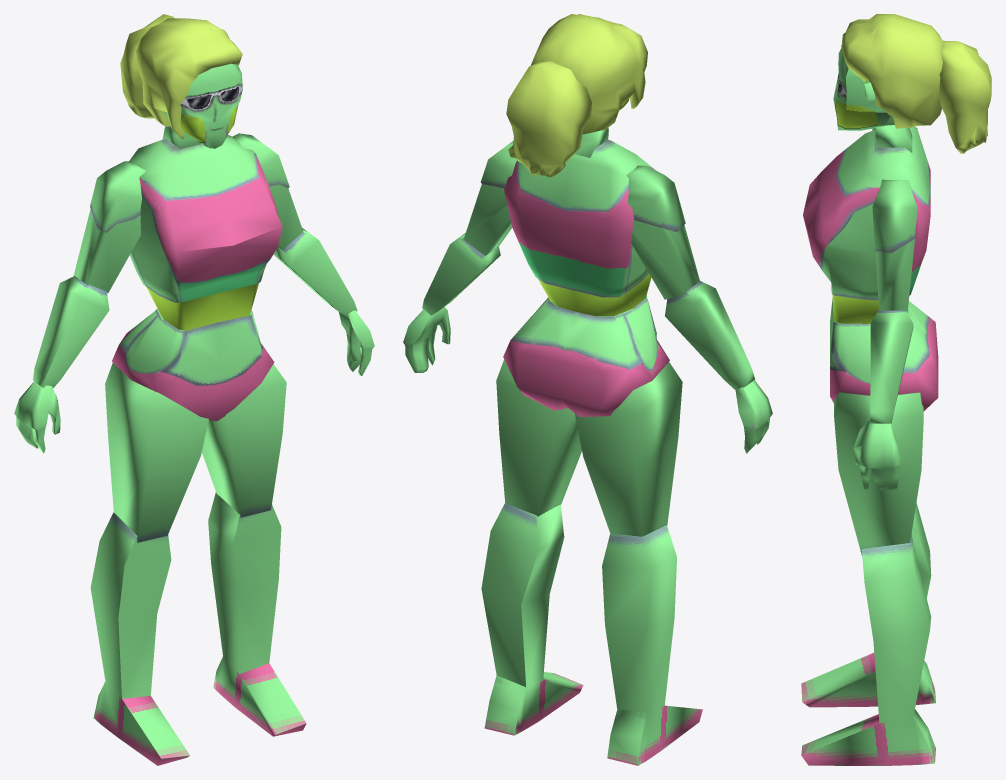
File: saporensawoman1.glb
3 renders of one model, left to right at view 1: azimuth 30°, elevation 25°; view 2: azimuth 150°, elevation 25°; view 3: azimuth 270°, elevation 25°, orthographic. The views are drawn at different scales.
Parts seen in each view (by area): view 1: woman, www; view 2: woman, www; view 3: woman, www.
Part boxes in pixels (x1,y1,x2,y2): woman: [14, 63, 374, 765]; www: [120, 14, 242, 138]; woman: [403, 99, 772, 765]; www: [506, 14, 647, 177]; woman: [801, 47, 938, 765]; www: [841, 14, 991, 153].
Size of the model in its own units: 0.8817 by 1.71 by 0.4148.
2 materials, 2 textured.
